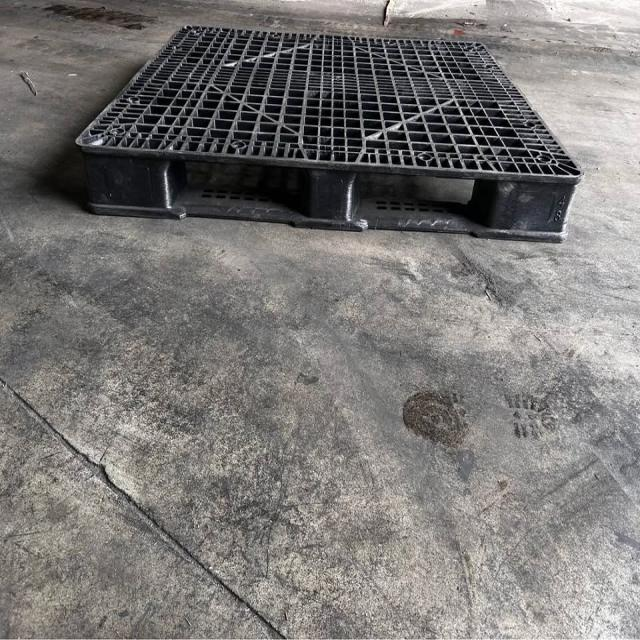non-igps: (72, 21, 589, 248)
